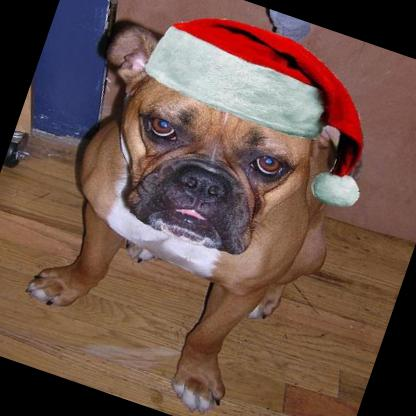boxer: (2, 0, 409, 416)
